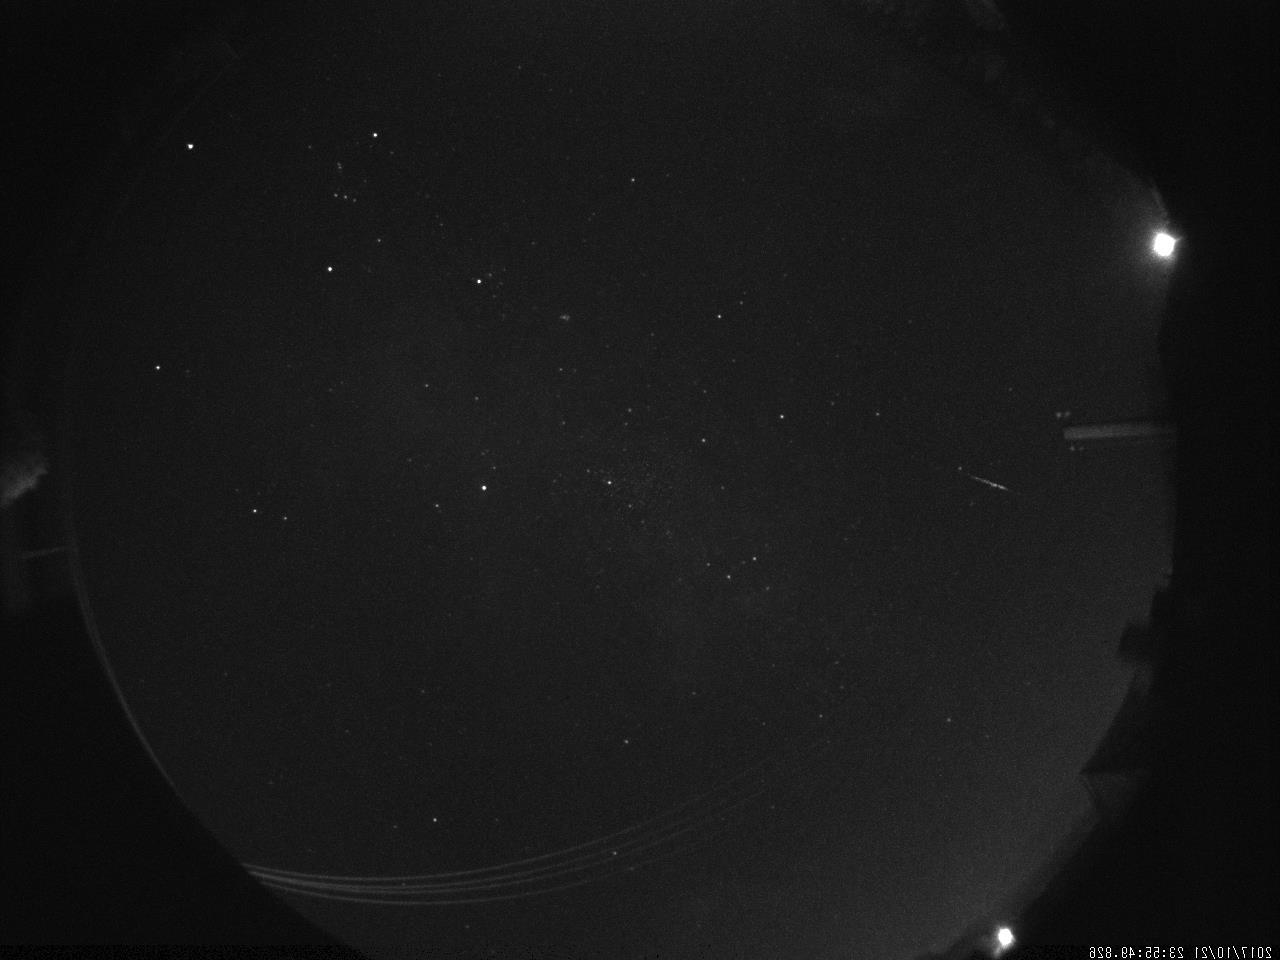meteor: (964, 468, 1017, 497)
